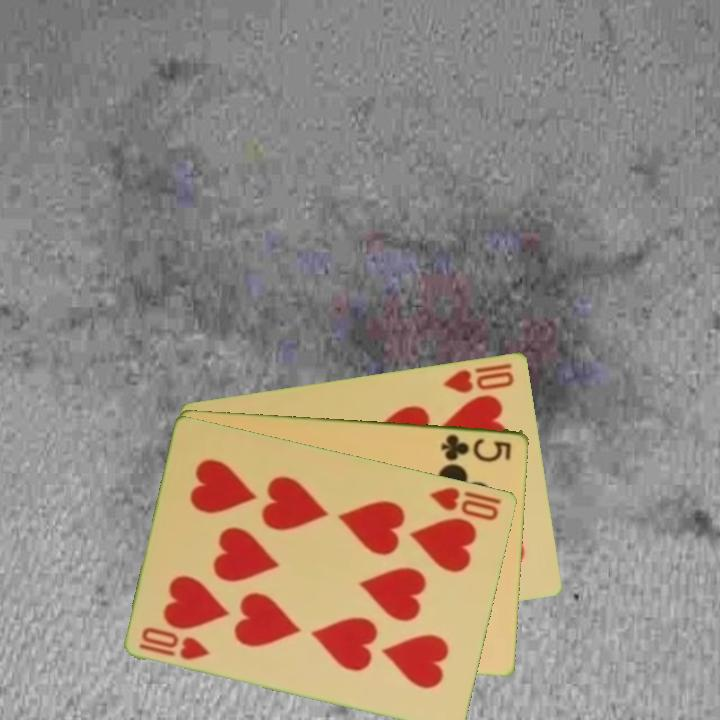10h: (427, 483, 505, 524), (136, 623, 213, 663), (440, 365, 518, 396)
5c: (438, 430, 515, 465)
